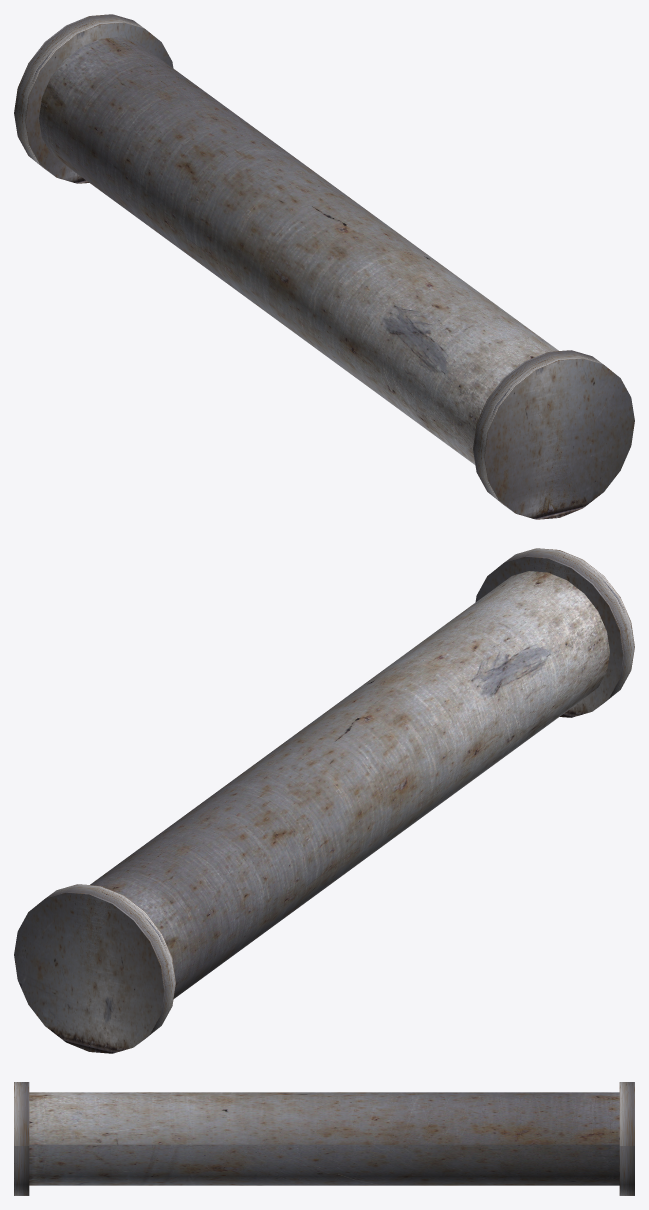
File: Straight_pipe.fbx
3 views of the same model, one above another, from view 1: azimuth 30°, elevation 25°; view 2: azimuth 150°, elevation 25°; view 3: azimuth 270°, elevation 25° (orthographic). The views are drawn at different scales.
Visible parts, largest first — view 1: Pipe; view 2: Pipe; view 3: Pipe.
Part boxes in pixels (x1=…): Pipe: x1=14, y1=14, x2=634, y2=519; Pipe: x1=14, y1=548, x2=634, y2=1053; Pipe: x1=14, y1=1082, x2=634, y2=1195.
Size of the model in its own units: 0.8354 by 0.8358 by 4.53.
